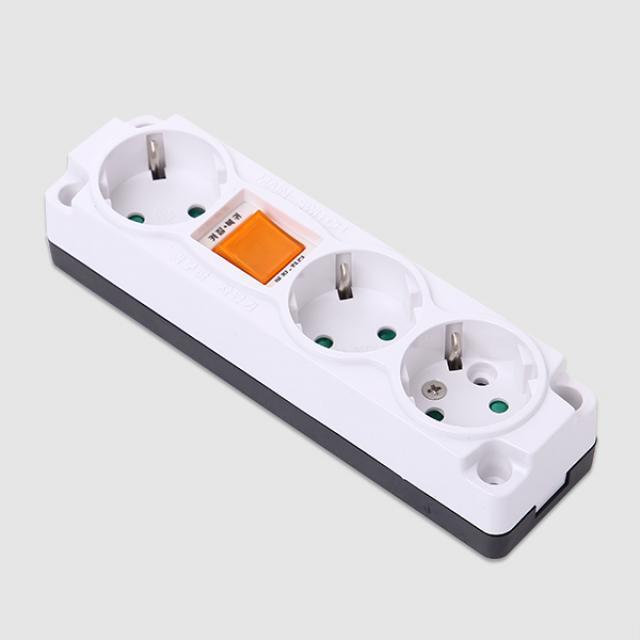typeb: (20, 70, 630, 553)
